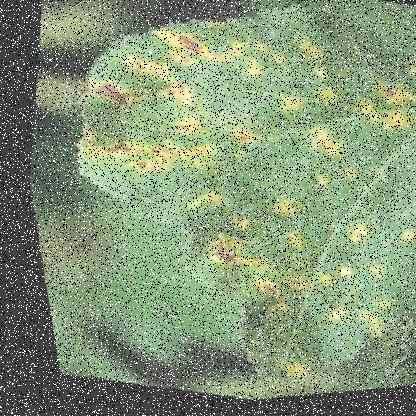DownyMildew: (156, 6, 415, 265), (41, 0, 272, 197), (166, 152, 353, 309)
